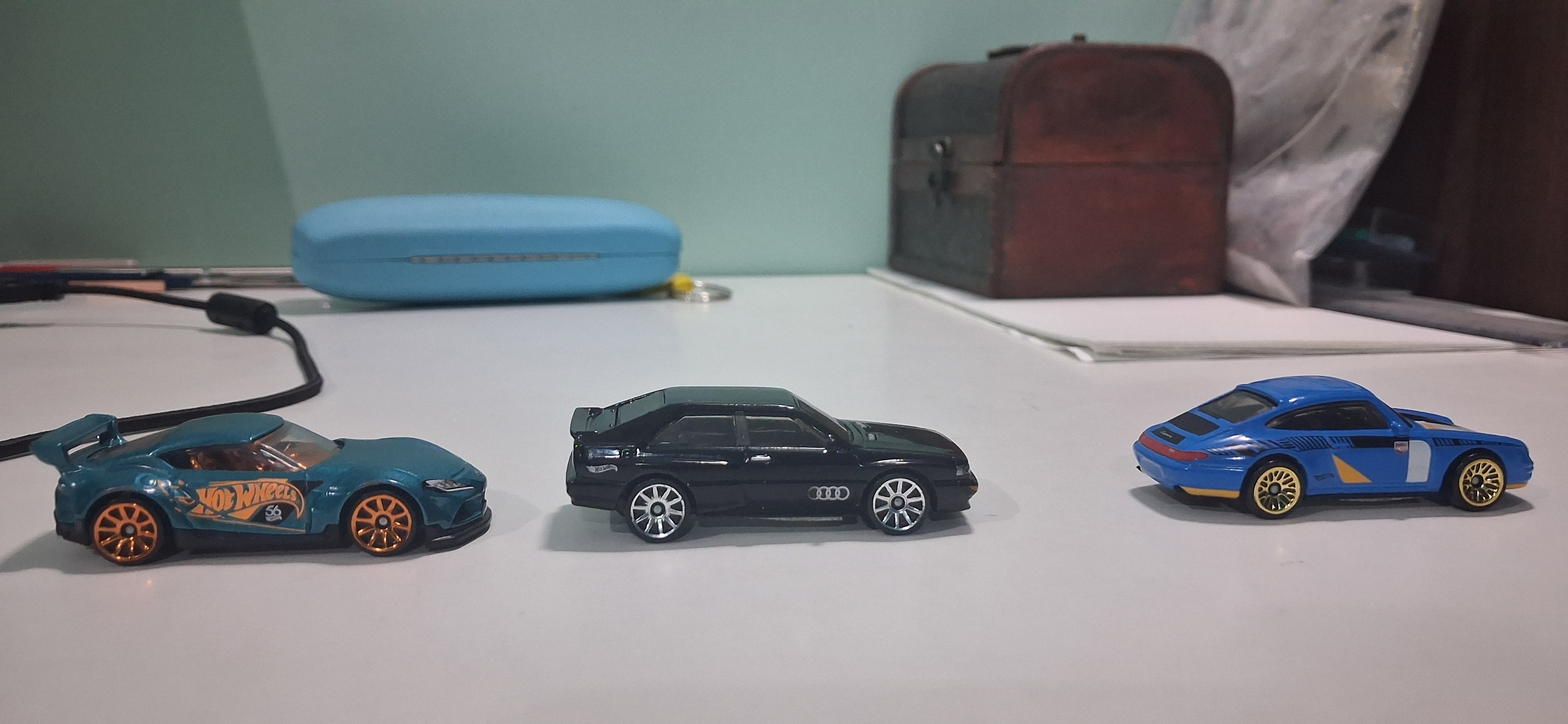Porsche_Carrera: (1094, 357, 1549, 565)
Tesla_Model_S_Plaid: (538, 375, 1003, 554)
Toyota_GR_Supra: (22, 380, 494, 599)
